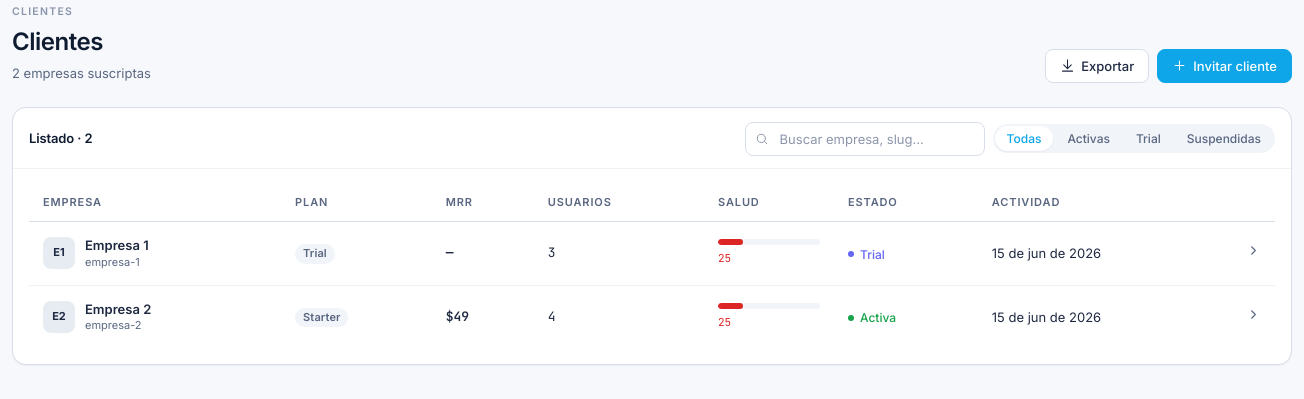
Test case: Clientes › empty state con botón clear cuando los filtros no devuelven nada
The image size is (1304, 399).
expect the text "Empresa 1" is shown: met, box [85,236,149,255]
# Click en Suspendidas → trigger un fetch que devuelve []
Click the tab "Suspendidas" at (1224, 139), box [1175,126,1273,151]
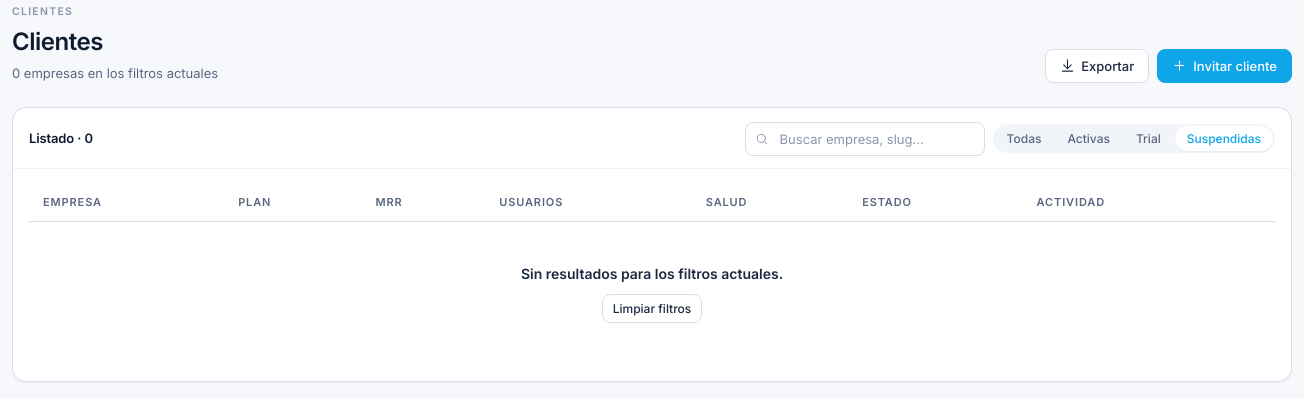
expect the text "Sin resultados para los filtros actuales." is shown: met, box [521,265,783,282]
Click the button "Limpiar filtros" at (652, 309), box [602,294,702,323]
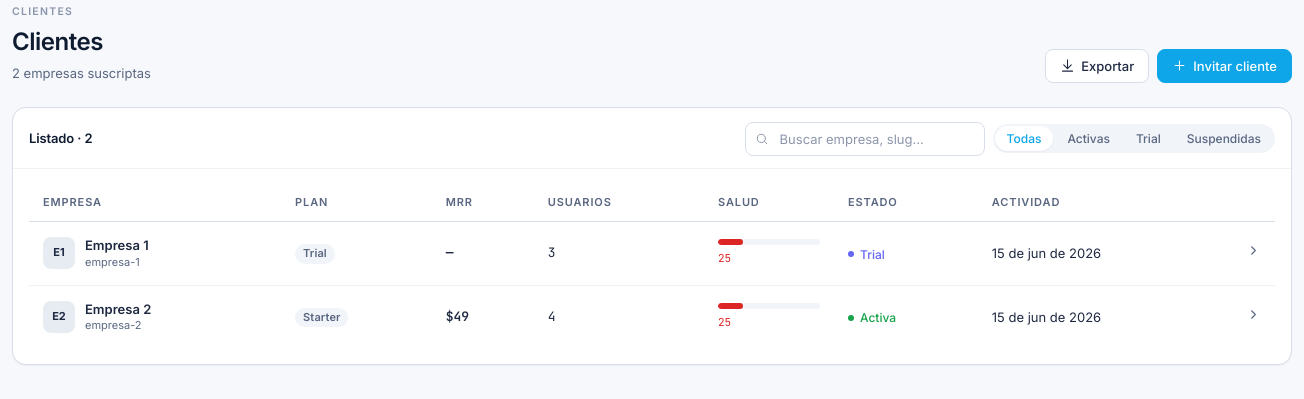
expect the text "Empresa 1" is shown: met, box [85,236,149,255]
